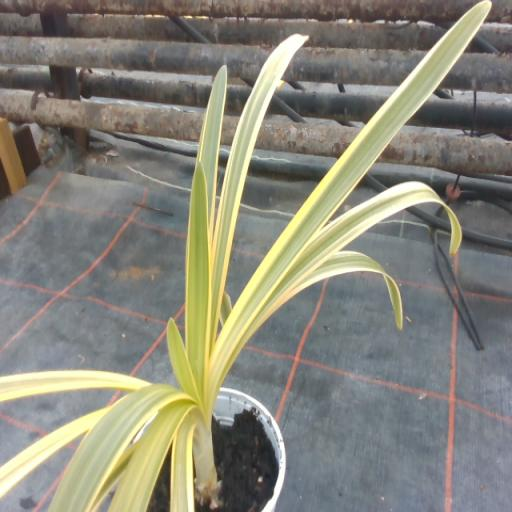Agapanthus-praecox: (207, 1, 490, 404), (210, 35, 306, 350), (50, 385, 190, 511), (276, 182, 438, 289), (0, 407, 110, 496), (288, 253, 402, 327), (111, 407, 189, 511), (186, 162, 210, 390), (196, 65, 226, 239), (0, 370, 148, 401), (167, 318, 198, 398), (170, 419, 194, 511), (257, 298, 286, 325), (450, 219, 461, 251)
